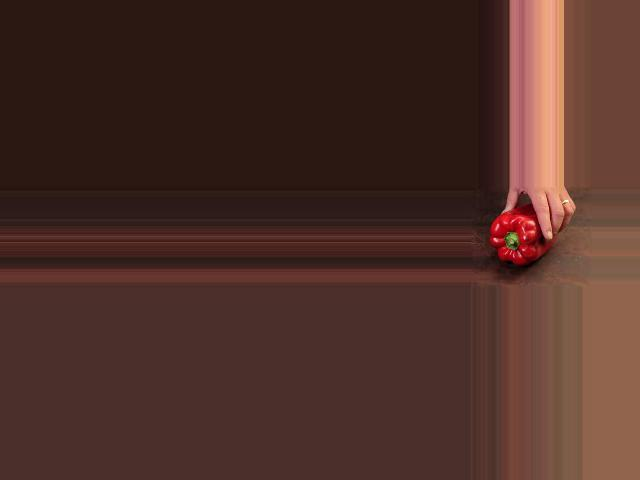bell_pepper: (488, 207, 550, 266)
